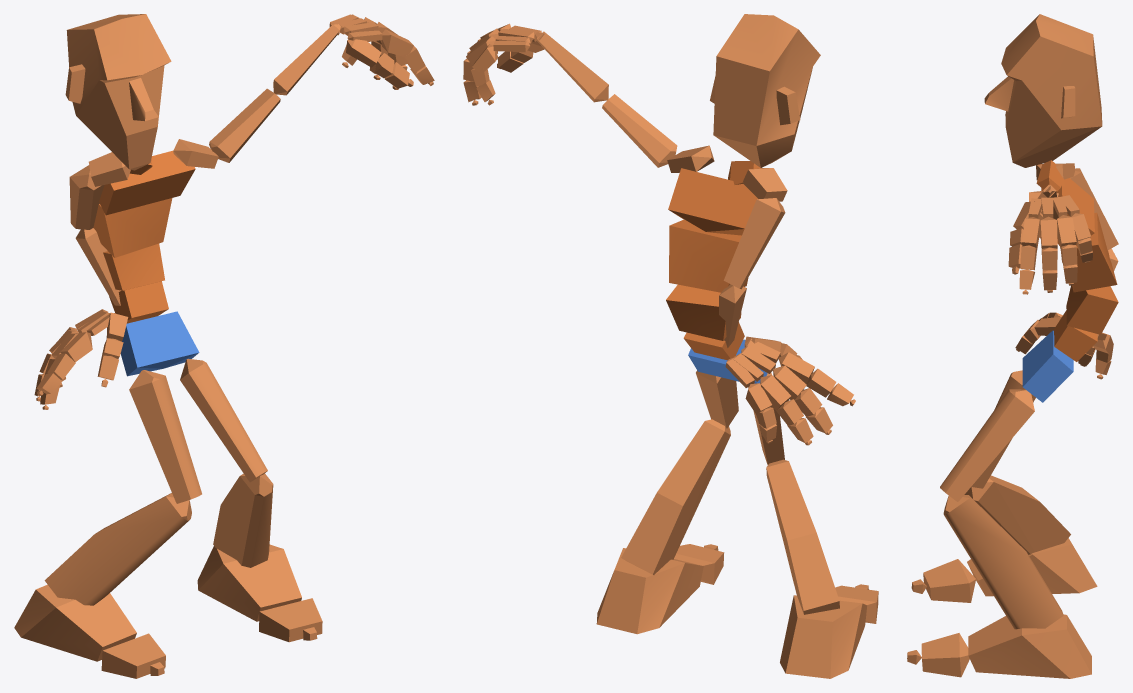
The model's file is personaje332.obj.
3 views of the same model, side by side, from view 1: azimuth 30°, elevation 25°; view 2: azimuth 150°, elevation 25°; view 3: azimuth 270°, elevation 25° (orthographic). The views are drawn at different scales.
Visible parts, largest first — view 1: BOPED_Head, BOPED_R_leg, BOPED_R_foot, BOPED_R_foot01, BOPED_R_legup, BOPED_L_leg, BOPED_L_legup, Bone01, Bone05, Bone04, BOPED_L_arm_upper, Bone03 (+9 smaller); view 2: BOPED_Head, BOPED_L_leg, BOPED_R_foot01, BOPED_R_leg, BOPED_R_foot, Bone05, Bone04, BOPED_R_arm_upper, Bone03, BOPED_L_arm_upper, BOPED_L_arm_fore, BOPED_L_legup (+10 smaller); view 3: BOPED_Head, BOPED_L_leg, BOPED_R_foot01, BOPED_R_leg, BOPED_L_legup, BOPED_R_foot, Bone01, Bone03, BOPED_R_foot_toe01, Bone04, BOPED_R_foot_toe04, Bone02 (+12 smaller).
Boxes of the visible parts, x1=… form: BOPED_Head: x1=65, y1=14, x2=171, y2=170; BOPED_R_leg: x1=44, y1=493, x2=191, y2=605; BOPED_R_foot: x1=14, y1=584, x2=136, y2=661; BOPED_R_foot01: x1=197, y1=544, x2=301, y2=621; BOPED_R_legup: x1=129, y1=370, x2=201, y2=503; BOPED_L_leg: x1=213, y1=473, x2=273, y2=567; BOPED_L_legup: x1=180, y1=358, x2=267, y2=482; Bone01: x1=120, y1=311, x2=199, y2=376; Bone05: x1=99, y1=150, x2=195, y2=215; Bone04: x1=93, y1=198, x2=172, y2=257; BOPED_L_arm_upper: x1=209, y1=88, x2=280, y2=162; Bone03: x1=103, y1=243, x2=164, y2=290; BOPED_Head: x1=710, y1=14, x2=820, y2=167; BOPED_L_leg: x1=621, y1=419, x2=730, y2=574; BOPED_R_foot01: x1=596, y1=548, x2=703, y2=634; BOPED_R_leg: x1=766, y1=459, x2=839, y2=614; BOPED_R_foot: x1=780, y1=595, x2=867, y2=678; Bone05: x1=668, y1=168, x2=758, y2=235; Bone04: x1=669, y1=220, x2=748, y2=292; BOPED_R_arm_upper: x1=723, y1=198, x2=785, y2=289; Bone03: x1=666, y1=284, x2=741, y2=340; BOPED_L_arm_upper: x1=602, y1=94, x2=677, y2=167; BOPED_L_arm_fore: x1=536, y1=31, x2=608, y2=102; BOPED_L_legup: x1=696, y1=370, x2=738, y2=428; BOPED_Head: x1=984, y1=14, x2=1102, y2=167; BOPED_L_leg: x1=943, y1=495, x2=1063, y2=629; BOPED_R_foot01: x1=968, y1=614, x2=1091, y2=678; BOPED_R_leg: x1=964, y1=475, x2=1070, y2=554; BOPED_L_legup: x1=940, y1=389, x2=1034, y2=501; BOPED_R_foot: x1=967, y1=538, x2=1097, y2=596; Bone01: x1=1022, y1=330, x2=1073, y2=402; Bone03: x1=1066, y1=285, x2=1118, y2=334; BOPED_R_foot_toe01: x1=923, y1=559, x2=976, y2=602; Bone04: x1=1072, y1=212, x2=1117, y2=292; BOPED_R_foot_toe04: x1=921, y1=633, x2=969, y2=677; Bone02: x1=1054, y1=310, x2=1097, y2=361.
Bounding box in the file's own units: 117 × 173 × 56.54.
